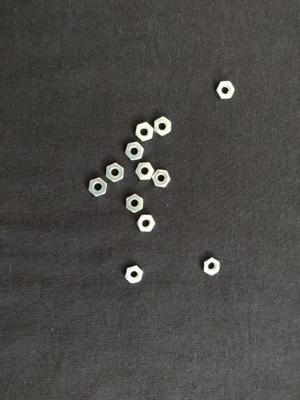nut: (215, 80, 236, 100), (134, 161, 155, 181), (105, 162, 125, 183), (88, 177, 108, 197), (124, 142, 146, 160), (135, 122, 154, 142), (151, 169, 171, 188), (136, 214, 156, 233), (124, 265, 144, 284), (202, 257, 221, 277), (154, 116, 172, 137), (126, 194, 144, 214)
